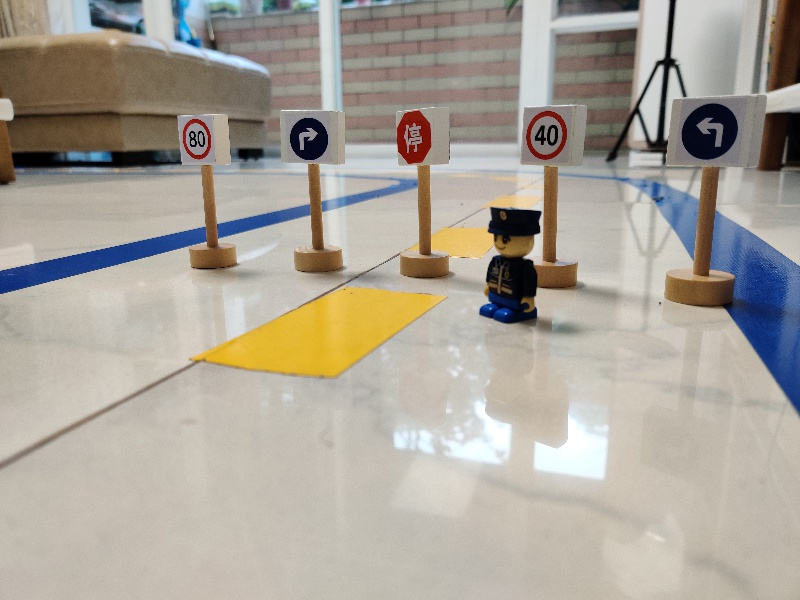limit_40: (519, 104, 589, 169)
limit_80: (172, 112, 234, 167)
person: (471, 203, 545, 326)
stop: (392, 104, 452, 166)
turn_left: (668, 93, 766, 170)
turn_right: (277, 107, 348, 166)
